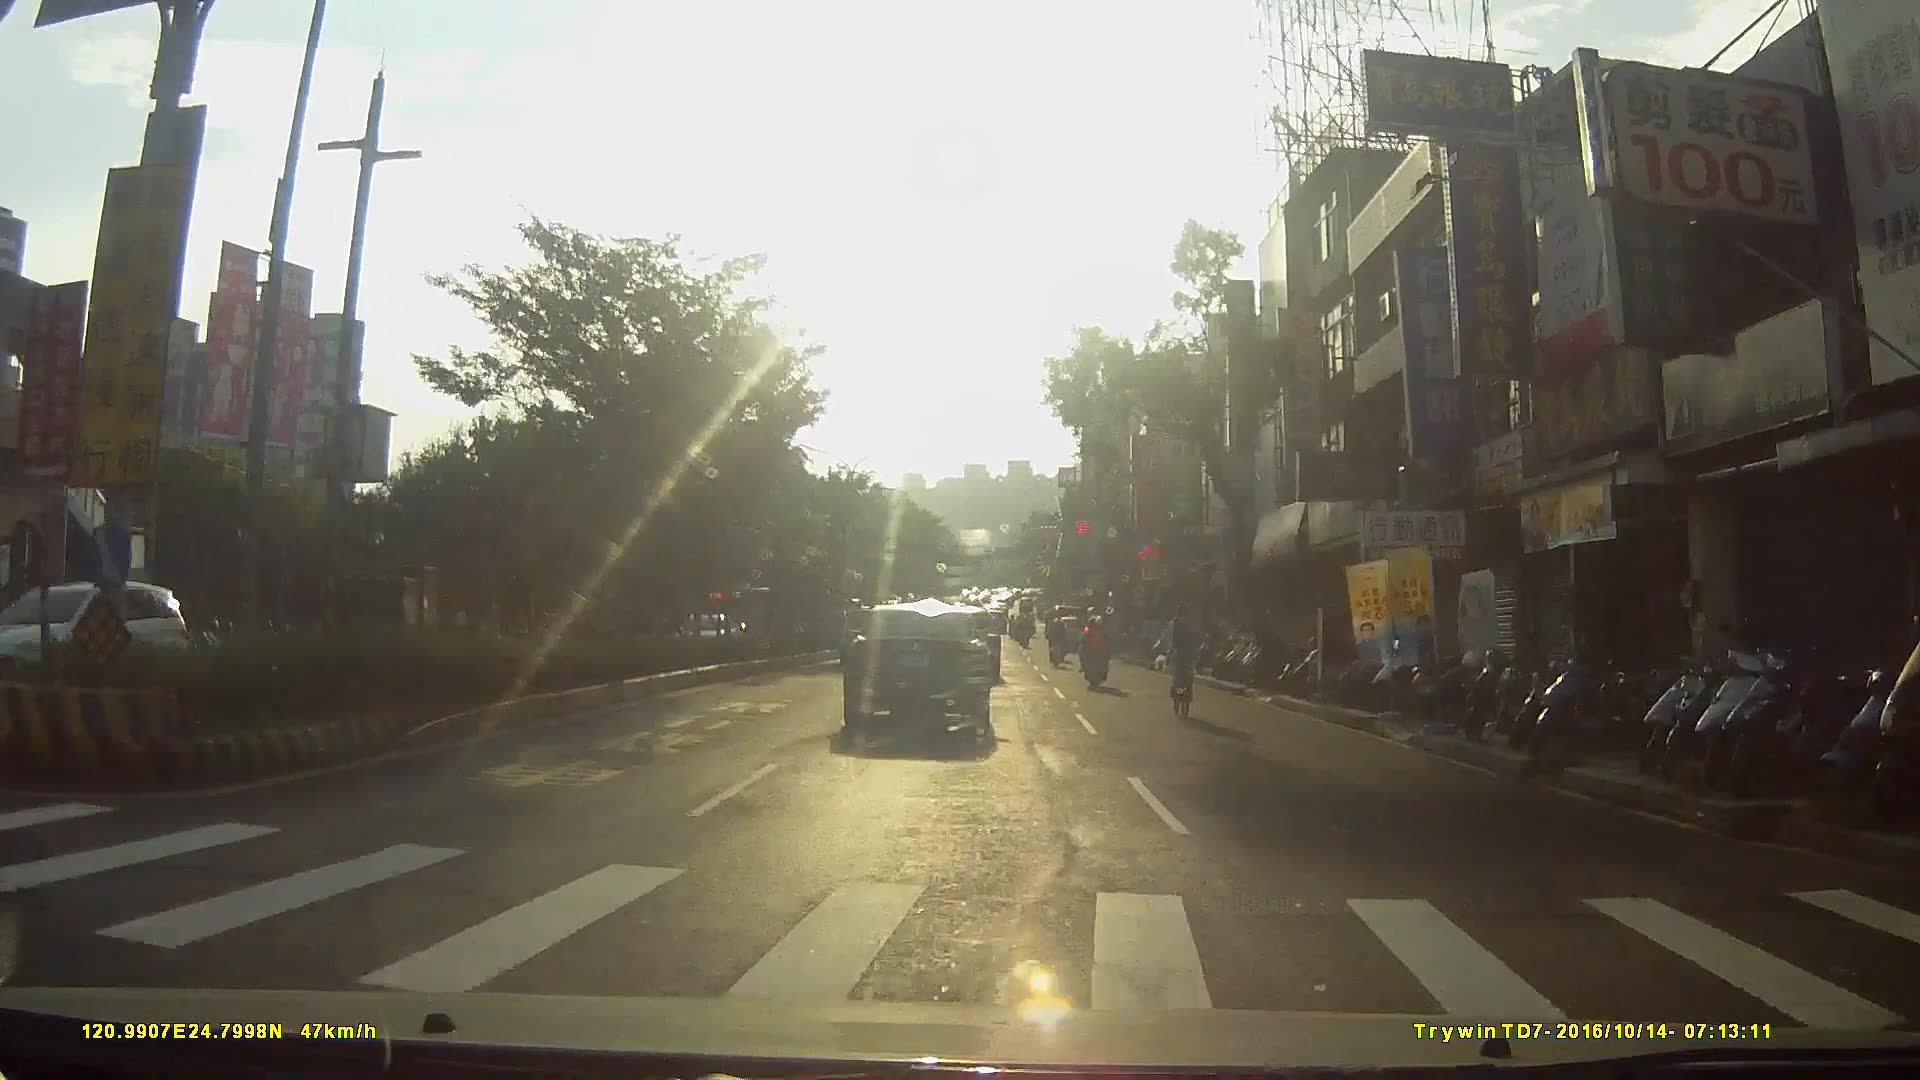rider: (1155, 596, 1210, 718), (1080, 612, 1114, 688), (1046, 616, 1070, 668)
vehicle: (1, 582, 195, 711), (842, 606, 1004, 751)
